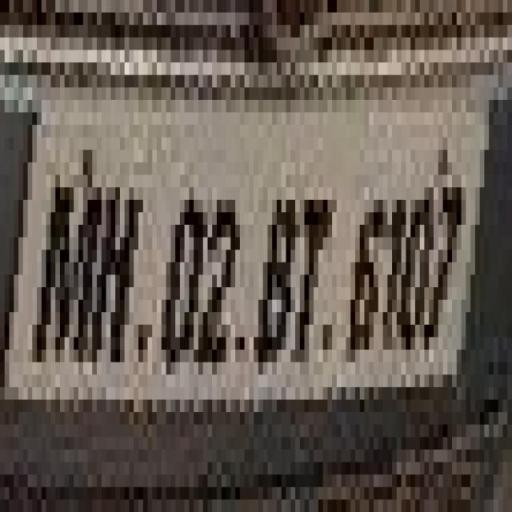number plate: (18, 62, 512, 412)
